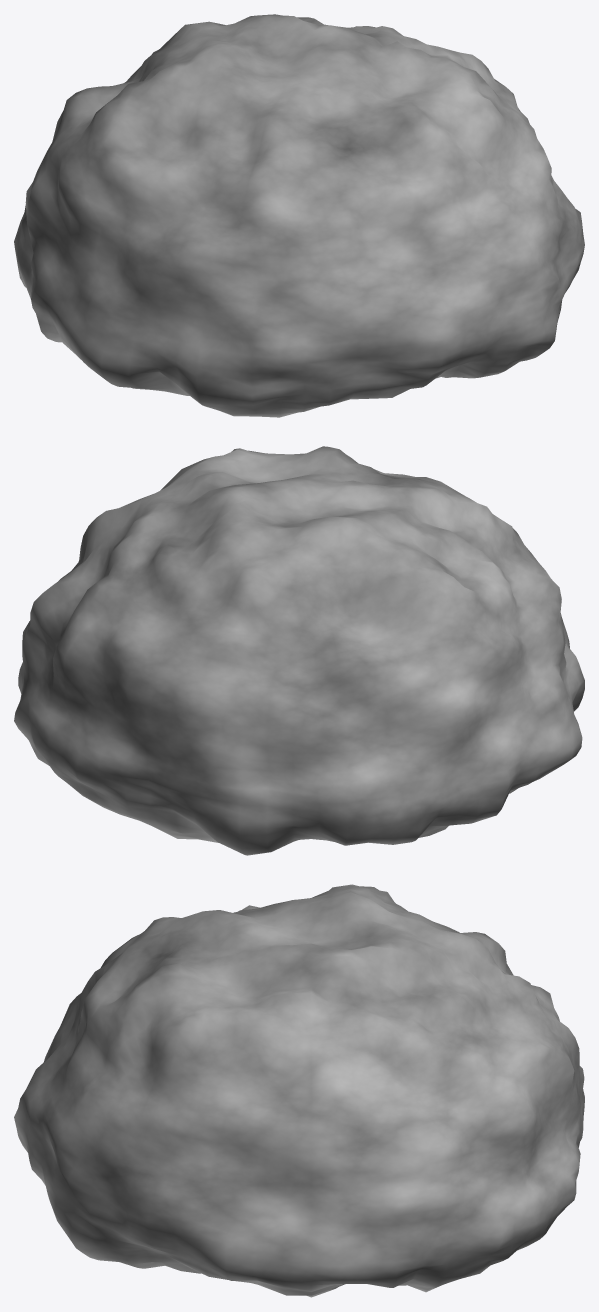
The model's file is rock.glb.
3 views of the same model, one above another, from view 1: azimuth 30°, elevation 25°; view 2: azimuth 150°, elevation 25°; view 3: azimuth 270°, elevation 25° (orthographic). The views are drawn at different scales.
Parts seen in each view (by area): view 1: 立方体; view 2: 立方体; view 3: 立方体.
Boxes of the visible parts, x1,y1,x2,y2 form: 立方体: [14, 14, 584, 417]; 立方体: [14, 446, 584, 855]; 立方体: [14, 884, 584, 1297].
Bounding box in the file's own units: 1.88 × 1.08 × 1.86.
Materials: 1 (1 with a texture image).
